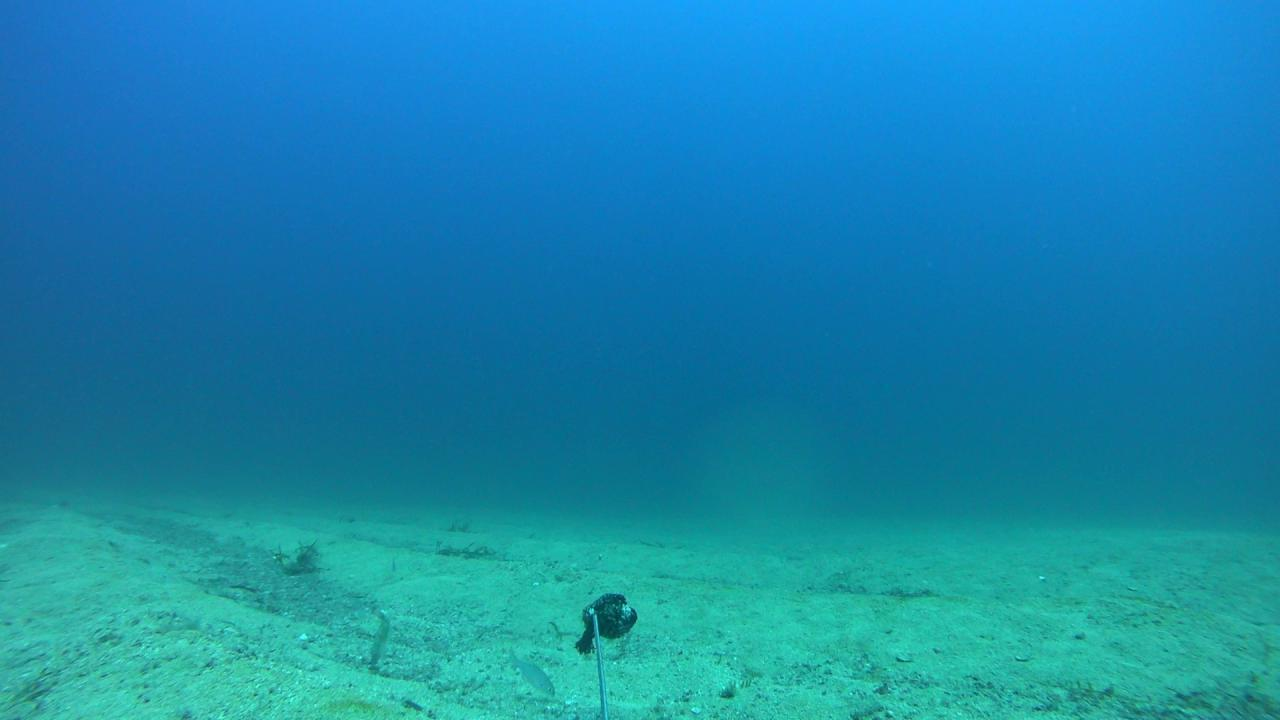pagellus: (508, 654, 554, 696)
